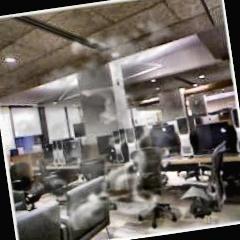smoke: (69, 56, 161, 223)
